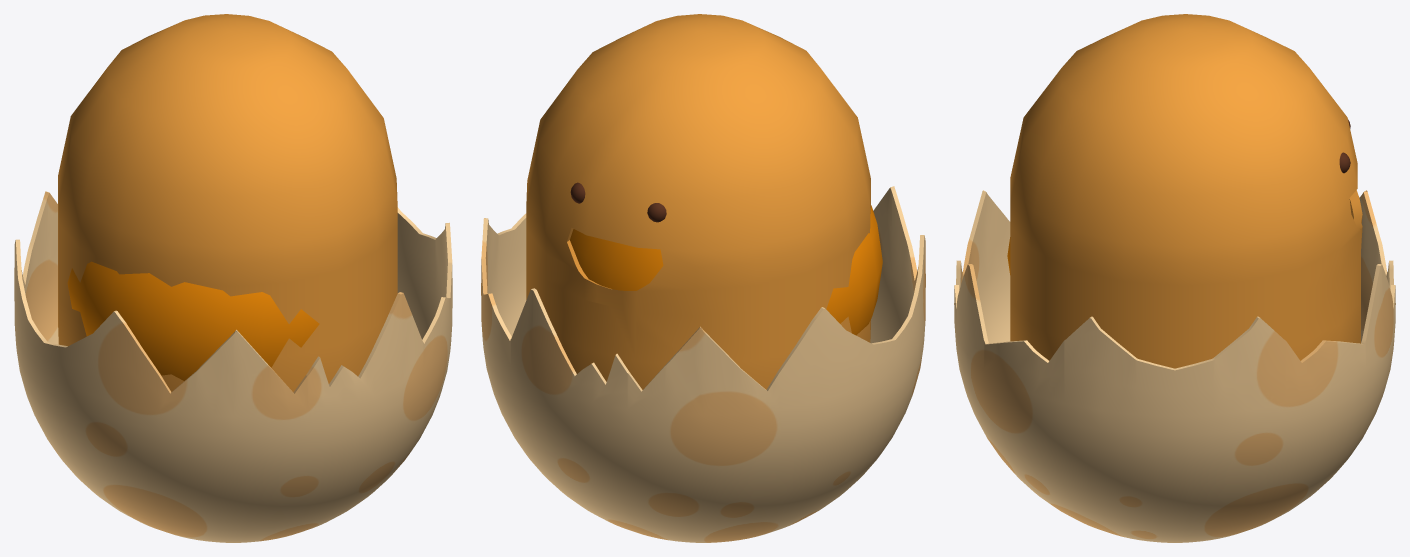
Rendered from sino1.fbx.
3 renders of one model, left to right at view 1: azimuth 30°, elevation 25°; view 2: azimuth 150°, elevation 25°; view 3: azimuth 270°, elevation 25°, orthographic.
Parts seen in each view (by area): view 1: Capsule, Capsule__Extrude__1, 구; view 2: Capsule, Capsule__Extrude__1, 구; view 3: Capsule, Capsule__Extrude__1.
Part boxes in pixels (x1,y1,x2,y2): Capsule: [58, 14, 397, 392]; Capsule__Extrude__1: [14, 191, 452, 542]; 구: [67, 261, 319, 380]; Capsule: [526, 14, 870, 389]; Capsule__Extrude__1: [481, 186, 925, 542]; 구: [570, 205, 882, 335]; Capsule: [1010, 14, 1362, 368]; Capsule__Extrude__1: [954, 190, 1395, 542].
Size of the model in its own units: 24.01 by 29.51 by 24.02.
4 materials, 1 textured.
